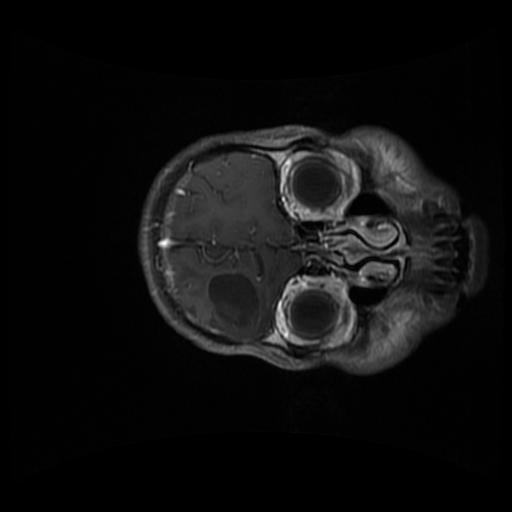glioma: (206, 274, 259, 339)
